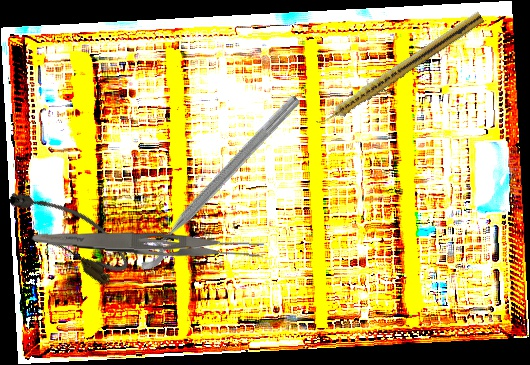Cannula: (1, 171, 137, 291)
Dressing Forceps: (30, 228, 267, 263)
Fixation Ring: (122, 81, 306, 275)
Handpiece: (313, 7, 485, 132)
